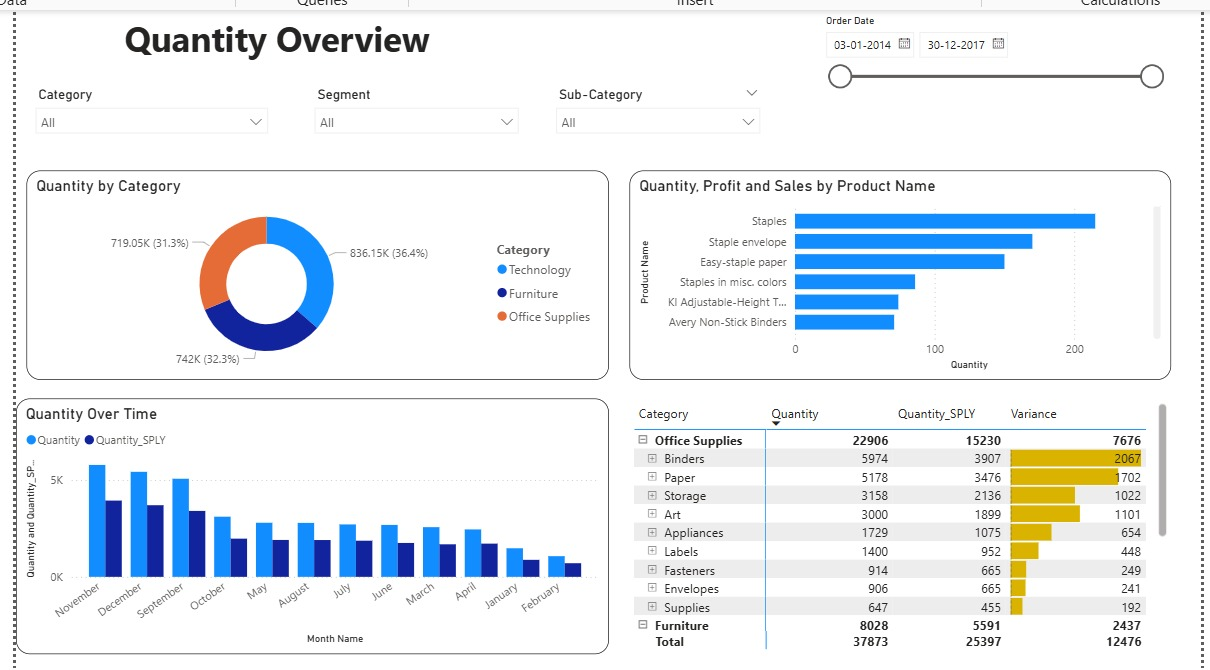

Layout of this report page (visuals, bound fields, positions):
{"tool":"powerbi","page":{"name":"Quantity overview","canvas":[1280,720],"ordinal":1},"visuals":[{"type":"textbox","box":[11,0,540.7,66.2],"z":0},{"type":"lineClusteredColumnComboChart","title":"Quantity Over Time","fields":{"Category":["Orders.Month Name"],"Y":["Measure_Table.Quantity","Measure_Table.Quantity_SPLY"]},"box":[0,419.3,640,275.9],"z":1000},{"type":"donutChart","title":"Quantity by Category","fields":{"Category":["Orders.Category"],"Y":["Sum(Orders.Sales)"]},"box":[11,173.8,629,226.2],"z":2000},{"type":"pivotTable","fields":{"Rows":["Orders.Category","Orders.Sub-Category","Orders.Product Name"],"Values":["Measure_Table.Quantity","Measure_Table.Quantity_SPLY","Measure_Table.Quantity-Quantity SPLY"]},"box":[662.1,419.3,584.8,275.9],"z":3000},{"type":"clusteredBarChart","fields":{"Category":["Orders.Product Name","Orders.Sub-Category"],"Y":["Measure_Table.Quantity"]},"box":[662.1,173.8,584.8,226.2],"z":4000},{"type":"slicer","fields":{"Values":["Orders.Order Date"]},"box":[860.7,0,386.2,129.7],"z":5000},{"type":"slicer","fields":{"Values":["Orders.Category"]},"box":[11,77.2,270.3,85.5],"z":6000},{"type":"slicer","fields":{"Values":["Orders.Segment"]},"box":[311.7,77.2,240,85.5],"z":7000},{"type":"slicer","fields":{"Values":["Orders.Sub-Category"]},"box":[573.8,77.2,240,85.5],"z":8000}]}

Visuals, with their boxes on the page's 1280x720 design canvas (x1, y1, x2, y2). These are canvas units, not pixel positions in the 1210x670 screenshot, which may show the page scaled, cropped or inside an application window:
textbox: (left=11, top=0, right=552, bottom=66)
"Quantity Over Time" lineClusteredColumnComboChart: (left=0, top=419, right=640, bottom=695)
"Quantity by Category" donutChart: (left=11, top=174, right=640, bottom=400)
pivotTable - Orders.Category x Orders.Sub-Category: (left=662, top=419, right=1247, bottom=695)
clusteredBarChart - Orders.Product Name x Orders.Sub-Category: (left=662, top=174, right=1247, bottom=400)
slicer - Orders.Order Date: (left=861, top=0, right=1247, bottom=130)
slicer - Orders.Category: (left=11, top=77, right=281, bottom=163)
slicer - Orders.Segment: (left=312, top=77, right=552, bottom=163)
slicer - Orders.Sub-Category: (left=574, top=77, right=814, bottom=163)
